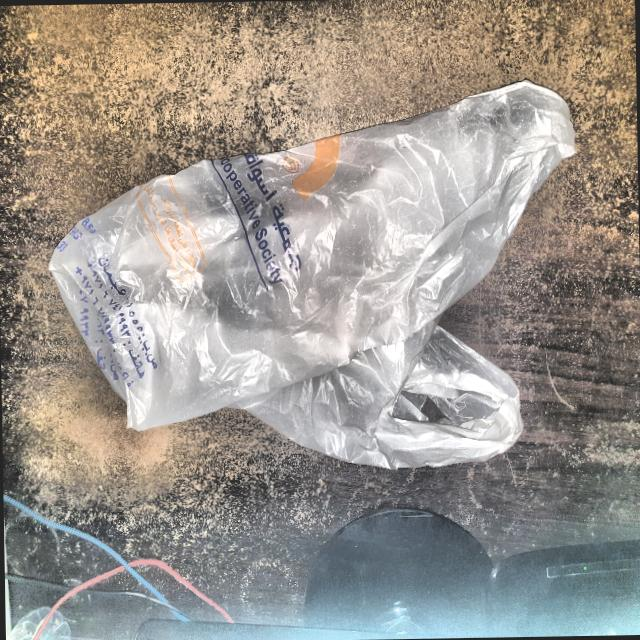plastic bag: (38, 77, 592, 488)
